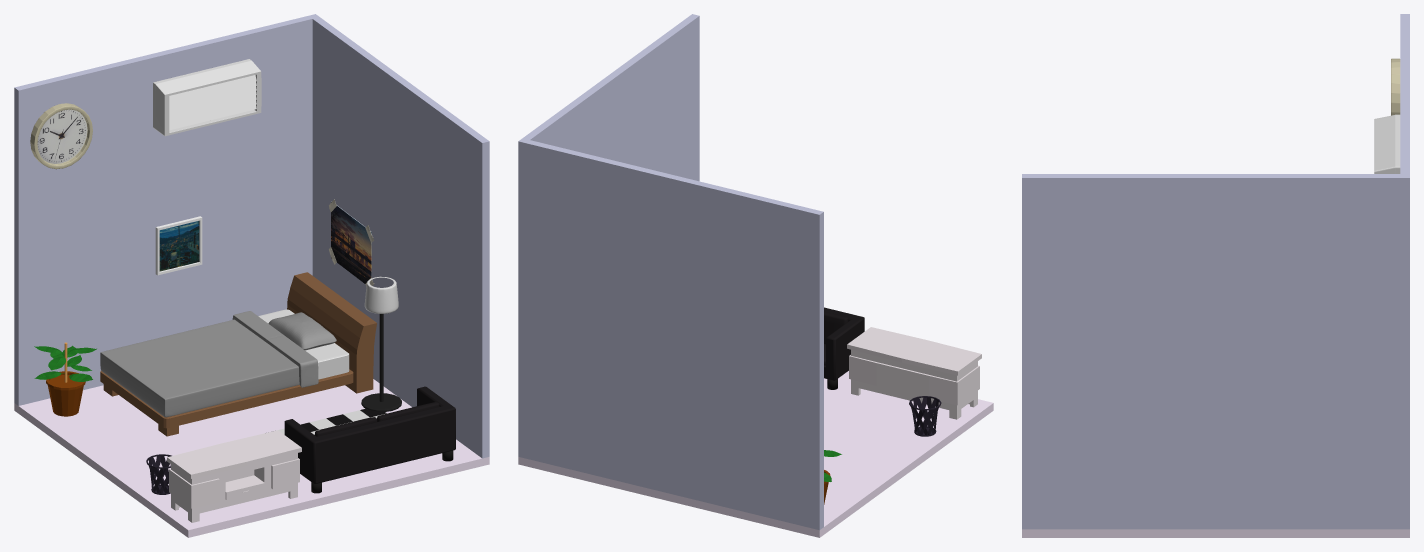
File: simpleroom.gltf
The picture shows the model from 3 angles, left to right: view 1: azimuth 30°, elevation 25°; view 2: azimuth 150°, elevation 25°; view 3: azimuth 270°, elevation 25°; orthographic projection. The views are drawn at different scales.
Visible parts, largest first — view 1: room_side1, room_side2, room_bottom, bed cloth, drawer, sofa, bed front, clock, aircon_wrap, aircon_wing, bed bottom, photo_frame.002 (+10 smaller); view 2: room_side1, room_side2, room_bottom, drawer, sofa, trash; view 3: room_side2, room_side1, room_bottom, aircon_wrap, clock.
Boxes of the visible parts, x1,y1,x2,y2 form: room_side1: (14,14,319,405); room_side2: (312,15,489,458); room_bottom: (14,379,489,537); bed cloth: (100,319,299,417); drawer: (167,430,301,522); sofa: (284,386,455,483); bed front: (287,272,376,393); clock: (30,103,92,169); aircon_wrap: (153,59,261,136); aircon_wing: (169,75,256,130); bed bottom: (100,369,353,428); photo_frame.002: (155,216,202,275); room_side1: (519,139,823,530); room_side2: (518,14,699,458); room_bottom: (518,371,993,537); drawer: (847,327,981,419); sofa: (824,307,864,380); trash: (909,396,941,436); room_side2: (1022,174,1409,529); room_side1: (1400,14,1409,529); room_bottom: (1022,529,1409,537); aircon_wrap: (1374,114,1400,173); clock: (1391,58,1400,115).
Bounding box in the file's own units: 8.2 × 8.4 × 8.2.
Materials: 24 (3 with a texture image).
